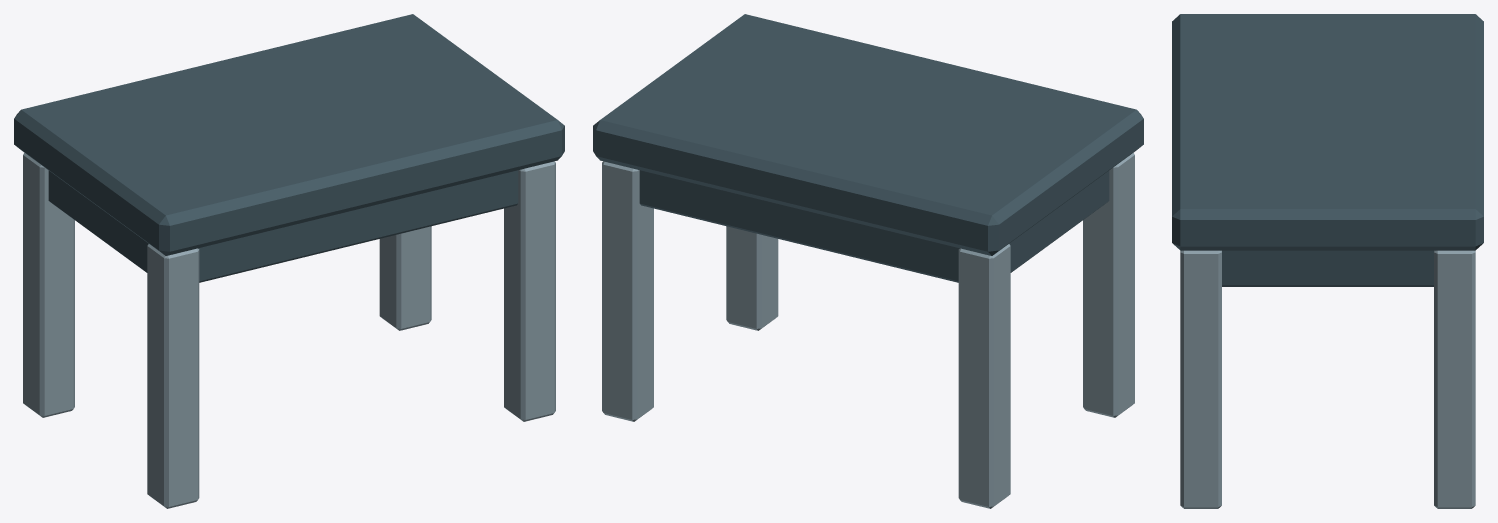
Rendered from table_fer.glb.
3 views of the same model, side by side, from view 1: azimuth 30°, elevation 25°; view 2: azimuth 150°, elevation 25°; view 3: azimuth 270°, elevation 25° (orthographic). The views are drawn at different scales.
Visible parts, largest first — view 1: table_fer; view 2: table_fer; view 3: table_fer.
Boxes of the visible parts, left/top/right/bottom form: table_fer: left=14, top=14, right=564, bottom=508; table_fer: left=593, top=14, right=1143, bottom=508; table_fer: left=1172, top=14, right=1483, bottom=508.
Size of the model in its own units: 1.15 by 0.8 by 0.75.
1 material, 1 textured.
